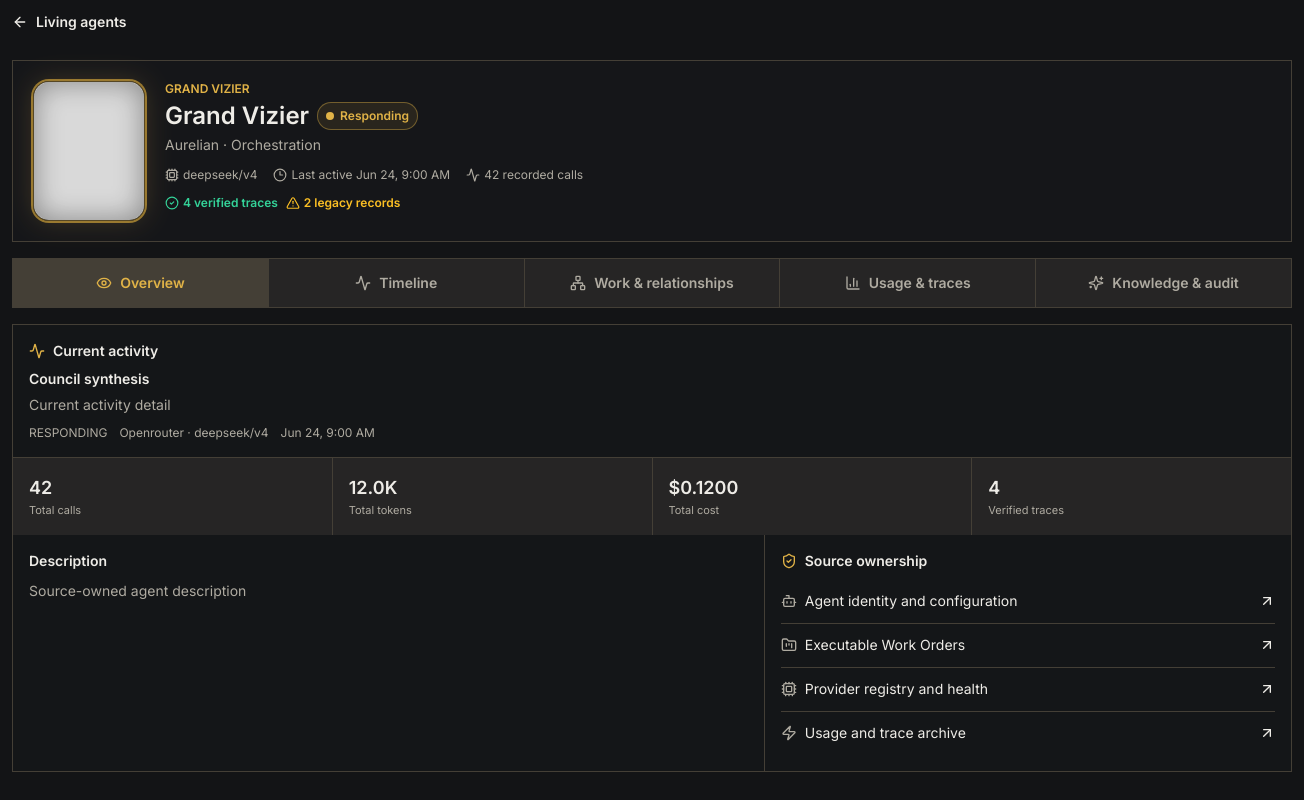
Scenario: LivingAgentProfilePage evidence workspace › loads knowledge lazily and keeps review, memory, and audit ownership visible
The width and height of the screenshot is (1304, 800).
Expected: the heading "Grand Vizier" is shown, [165, 101, 309, 131]
Click the button "Knowledge & audit" at point(1164, 283), box [1036, 259, 1291, 307]
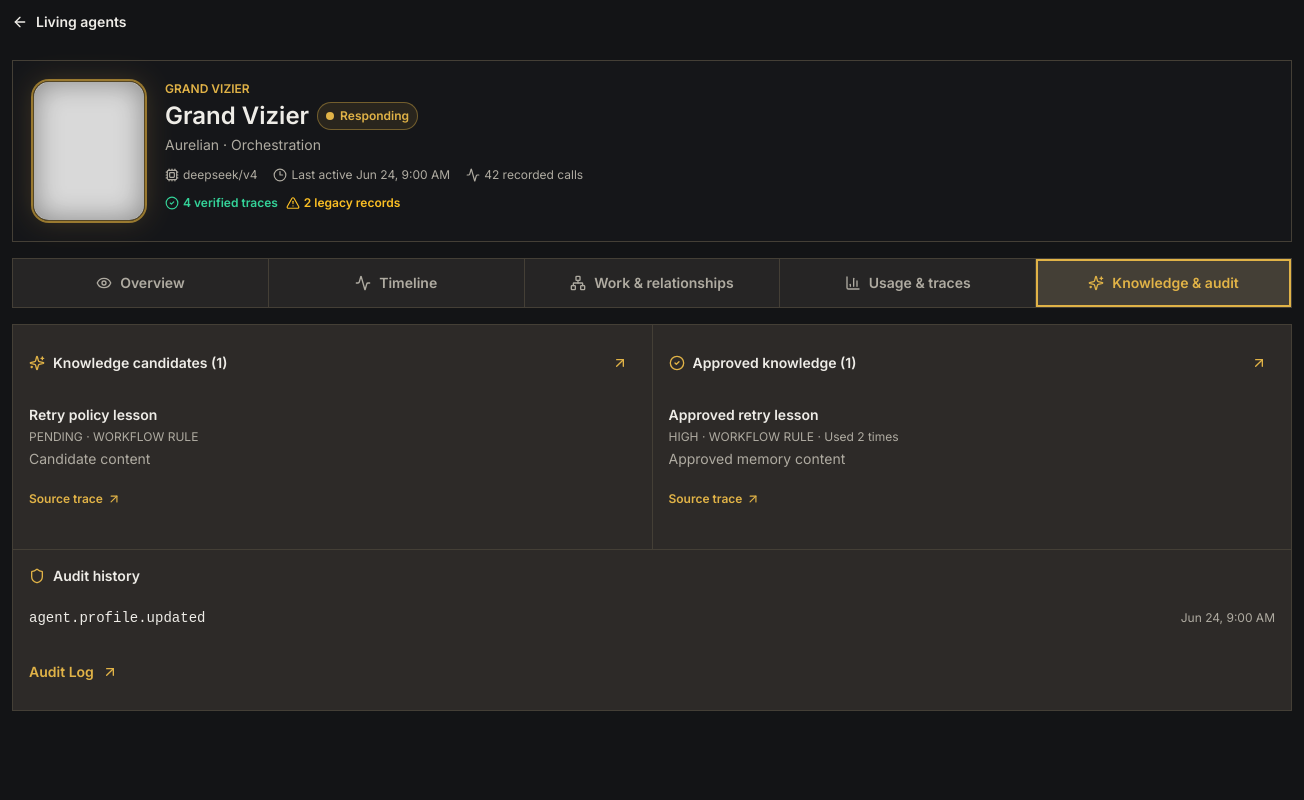
Expected: the heading "Retry policy lesson" is shown, [29, 406, 157, 423]
Expected: the heading "Approved retry lesson" is shown, [668, 406, 819, 423]
Expected: the text "agent.profile.updated" is shown, [29, 608, 205, 628]
